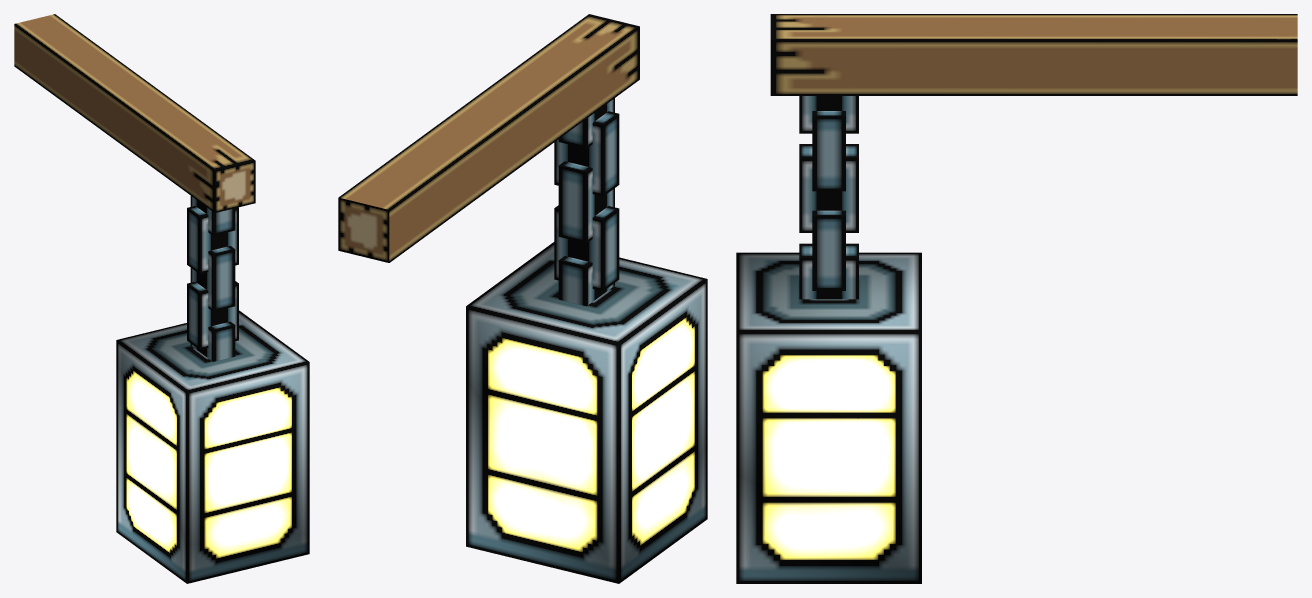
The model's file is deco_lampWall_B.FBX.
3 renders of one model, left to right at view 1: azimuth 30°, elevation 25°; view 2: azimuth 150°, elevation 25°; view 3: azimuth 270°, elevation 25°, orthographic. The views are drawn at different scales.
Visible parts, largest first — view 1: deco_lampWall_B; view 2: deco_lampWall_B; view 3: deco_lampWall_B.
Boxes of the visible parts, <box> form: deco_lampWall_B: <box>14,14,309,583</box>; deco_lampWall_B: <box>338,14,707,583</box>; deco_lampWall_B: <box>736,14,1297,583</box>.
Size of the model in its own units: 0.5621 by 1.73 by 1.7.
1 material, 1 textured.
